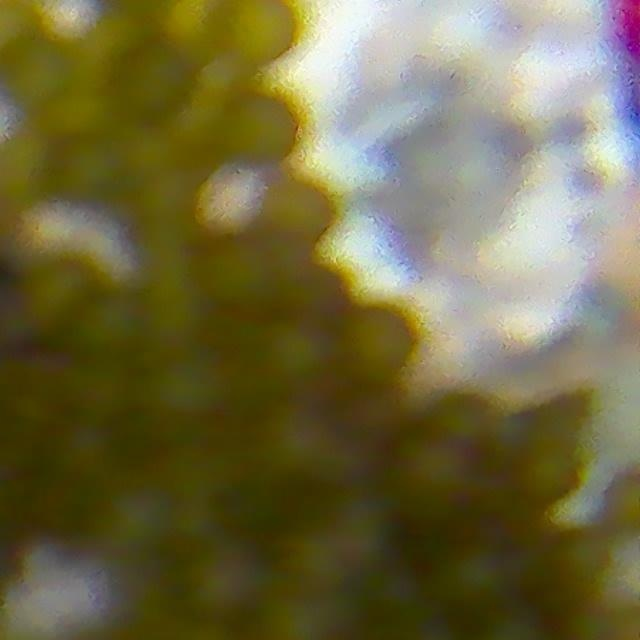SeaGrape: (128, 348, 233, 447), (384, 436, 486, 535), (251, 404, 350, 497), (186, 231, 274, 315), (177, 545, 273, 616), (93, 485, 182, 561), (225, 91, 303, 172), (338, 304, 416, 381), (116, 42, 193, 120), (46, 135, 126, 206), (68, 289, 142, 363), (442, 539, 515, 612), (0, 33, 71, 108), (252, 321, 324, 394), (215, 0, 297, 63), (23, 264, 95, 335), (257, 181, 333, 246), (51, 85, 115, 147), (160, 0, 227, 59), (257, 590, 334, 640), (0, 135, 51, 209), (520, 444, 581, 505), (434, 390, 494, 450), (194, 48, 254, 108), (123, 126, 178, 182)
